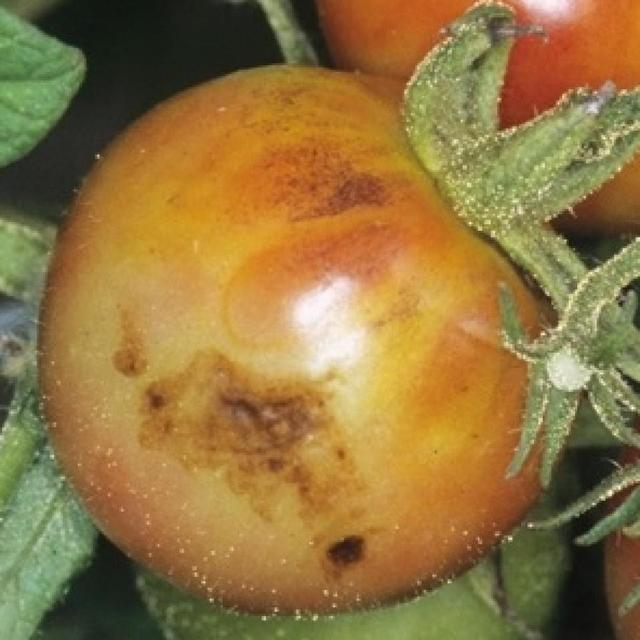Spotted wilt Virus Fruit: (22, 44, 374, 412)
